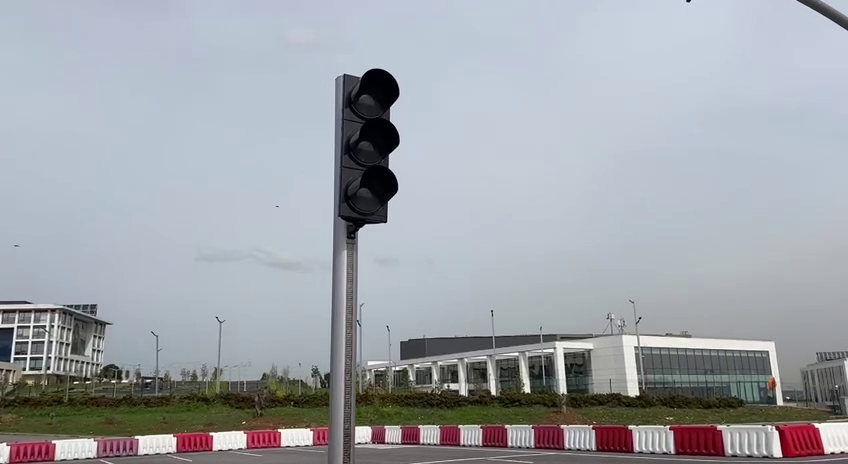trafficLight: (331, 62, 405, 231)
